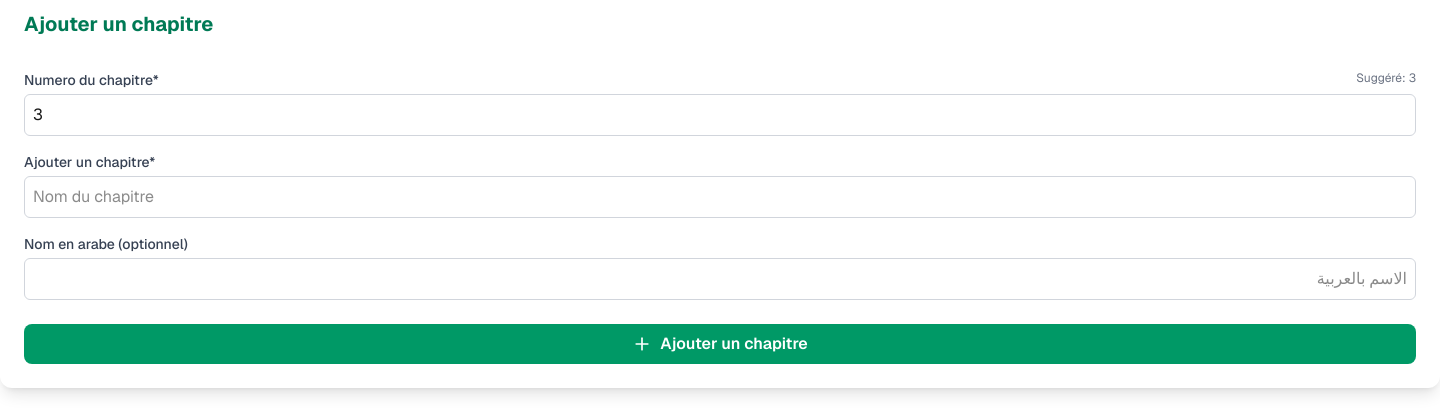
Scenario: AddItemForm › soumet le formulaire avec des données valides pour un chapitre
In the field labelled "Ajouter un chapitre*": coordinates (720, 197) [24,176,1416,218], type "Nouveau Chapitre Test"
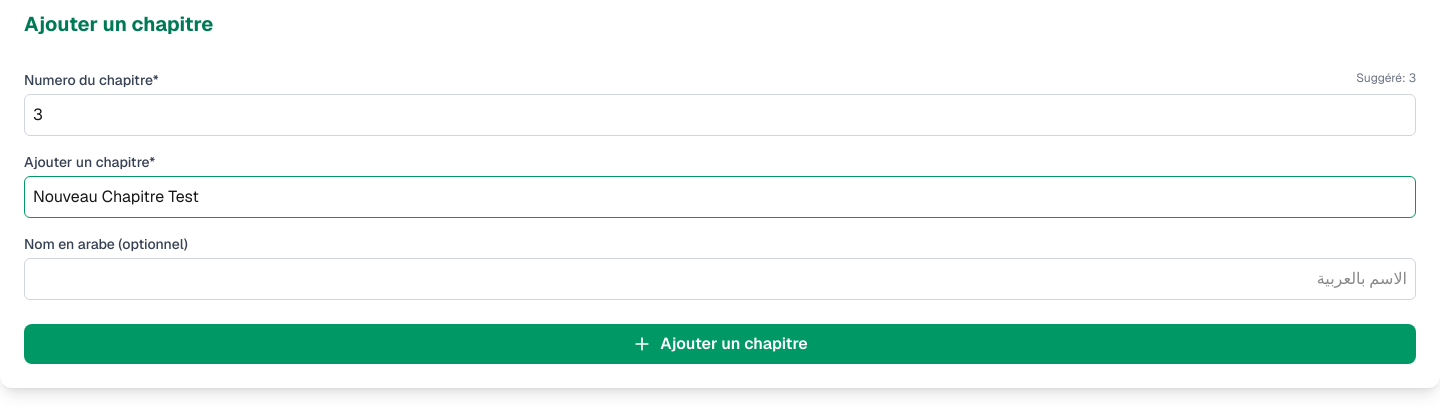
Replace the text in the number field labelled "Numero du chapitre*" with "10": coordinates (720, 115) [24,94,1416,136]
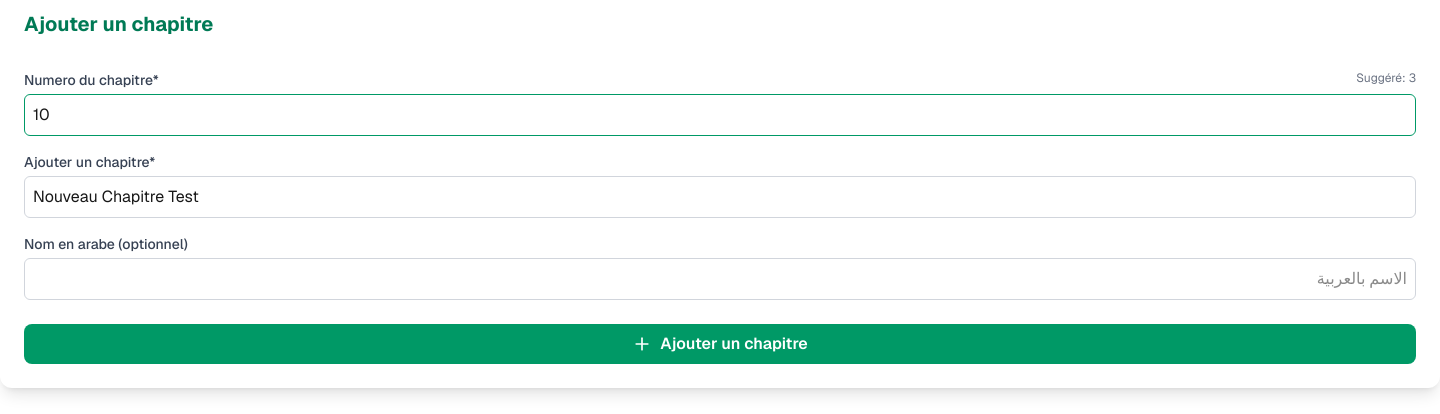
Click the button "Ajouter un chapitre": coordinates (720, 344) [24,324,1416,364]
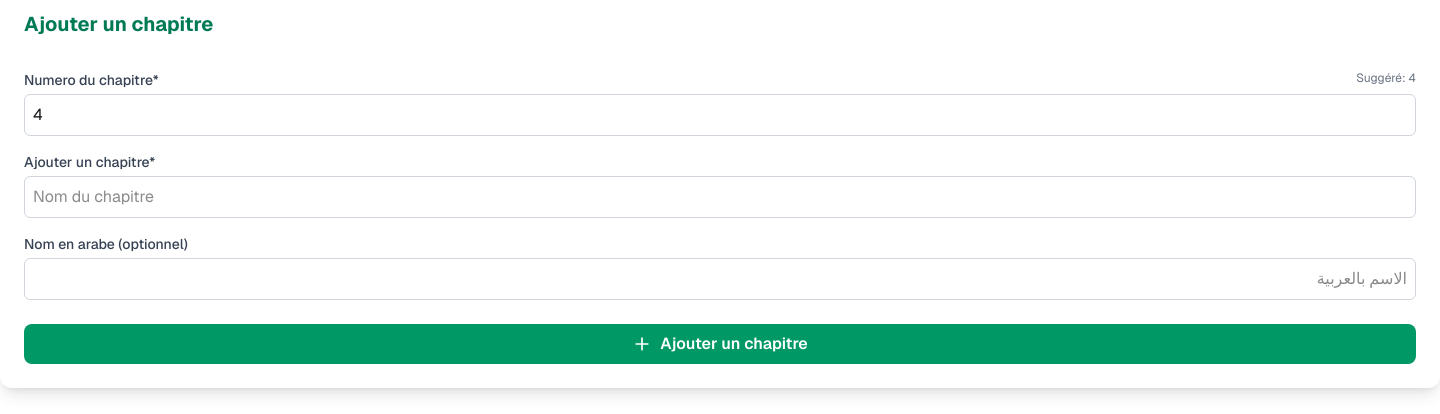
Result: the field labelled "Ajouter un chapitre*" is empty at [24,176,1416,218]
Result: the number field labelled "Numero du chapitre*" holds "4" at [24,94,1416,136]
